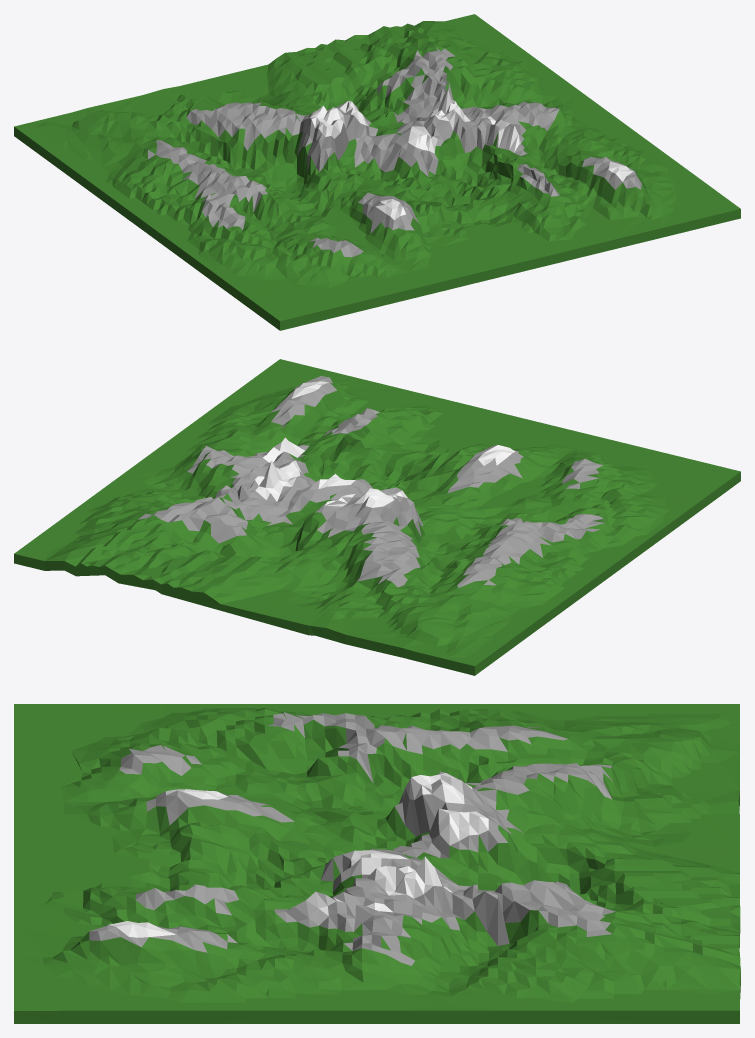
The model's file is Landscape3.fbx.
The picture shows the model from 3 angles, top to bottom: view 1: azimuth 30°, elevation 25°; view 2: azimuth 150°, elevation 25°; view 3: azimuth 270°, elevation 25°; orthographic projection. The views are drawn at different scales.
Visible parts, largest first — view 1: Plane_1; view 2: Plane_1; view 3: Plane_1.
Boxes of the visible parts, x1,y1,x2,y2 form: Plane_1: (14, 14, 740, 330); Plane_1: (14, 359, 740, 675); Plane_1: (14, 704, 740, 1023).
Size of the model in its own units: 50011 by 6470 by 50078.
